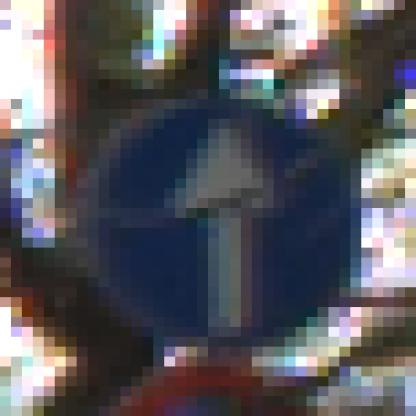AheadOnly: (67, 51, 362, 358)
